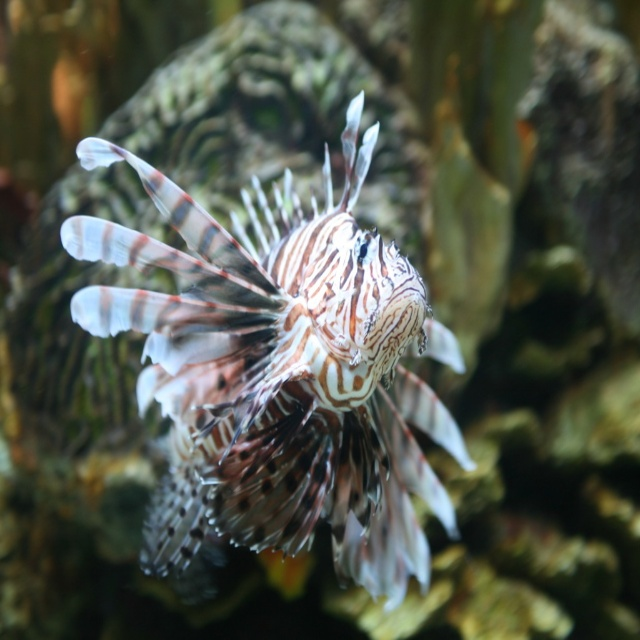Fish: (52, 89, 469, 626)
